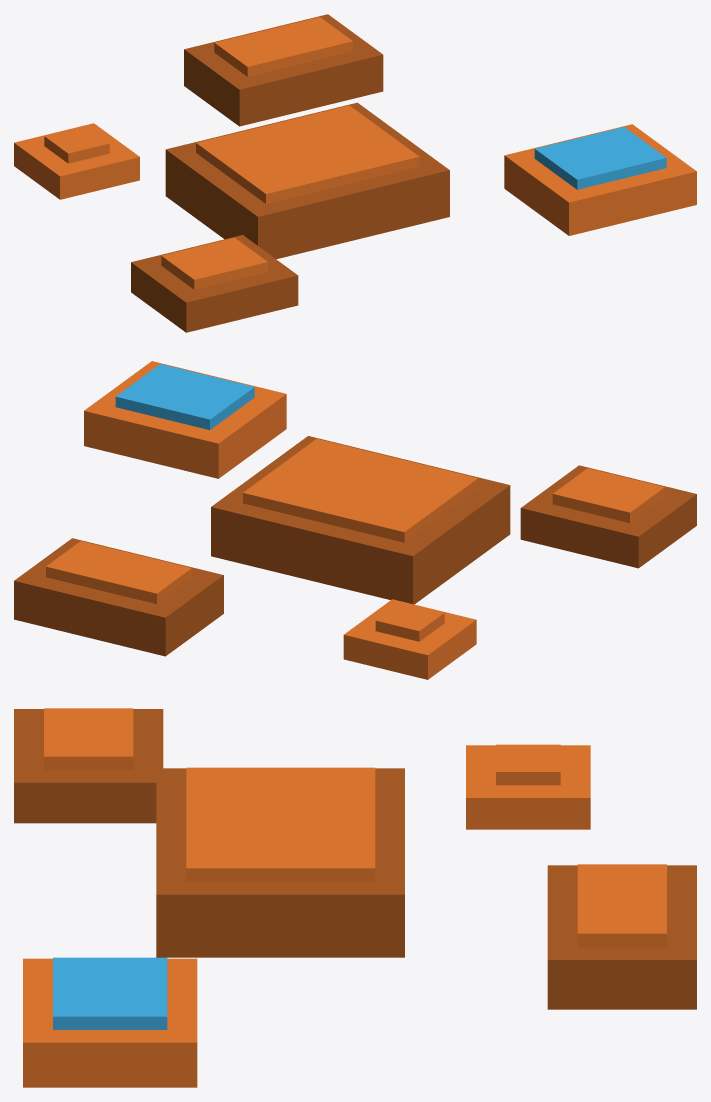
Rendered from DesertFlatStones.obj.
The picture shows the model from 3 angles, top to bottom: view 1: azimuth 30°, elevation 25°; view 2: azimuth 150°, elevation 25°; view 3: azimuth 270°, elevation 25°; orthographic projection. The views are drawn at different scales.
Visible parts, largest first — view 1: DesertFlatStones; view 2: DesertFlatStones; view 3: DesertFlatStones.
Part boxes in pixels (box(x1,y1,x2,y2)): DesertFlatStones: box(14, 14, 696, 332); DesertFlatStones: box(14, 361, 696, 679); DesertFlatStones: box(14, 708, 696, 1087).
Bounding box in the file's own units: 16.08 × 1.7 × 13.73.
